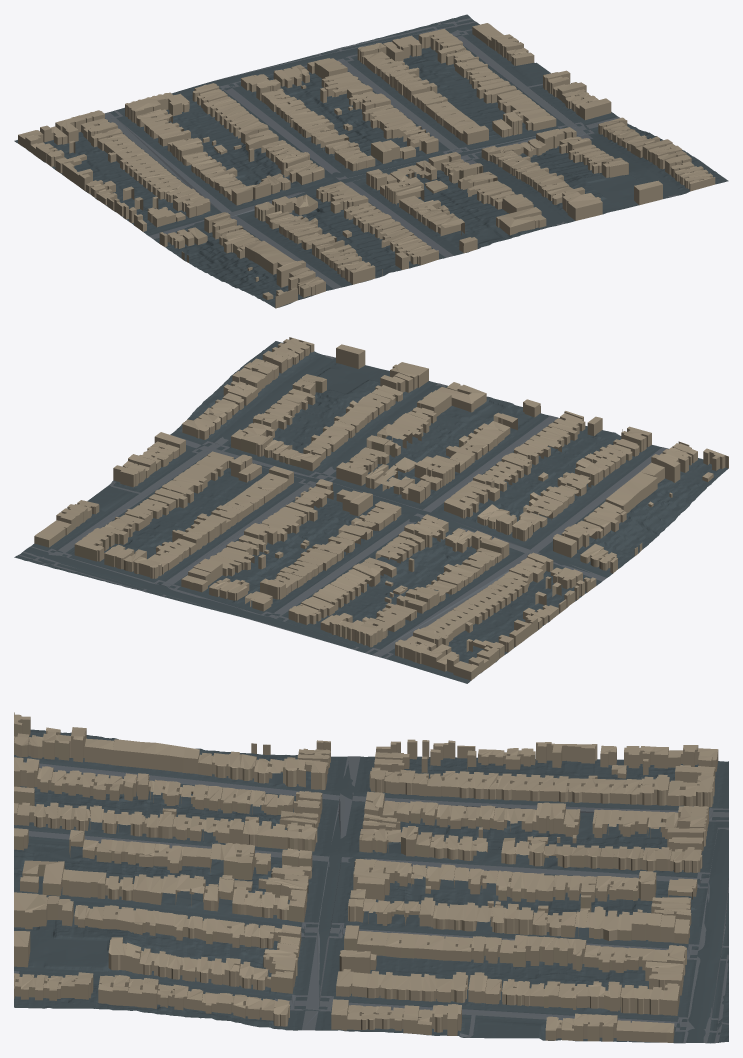
The model's file is epsg26910-1416-10887.lod0.glb.
The picture shows the model from 3 angles, top to bottom: view 1: azimuth 30°, elevation 25°; view 2: azimuth 150°, elevation 25°; view 3: azimuth 270°, elevation 25°; orthographic projection. The views are drawn at different scales.
Visible parts, largest first — view 1: epsg26910-1416-10887-lod0; view 2: epsg26910-1416-10887-lod0; view 3: epsg26910-1416-10887-lod0.
Part boxes in pixels (x1,y1,x2,y2): epsg26910-1416-10887-lod0: [14, 14, 728, 308]; epsg26910-1416-10887-lod0: [14, 337, 728, 683]; epsg26910-1416-10887-lod0: [14, 712, 728, 1043].
Size of the model in its own units: 384 by 43.44 by 384.
